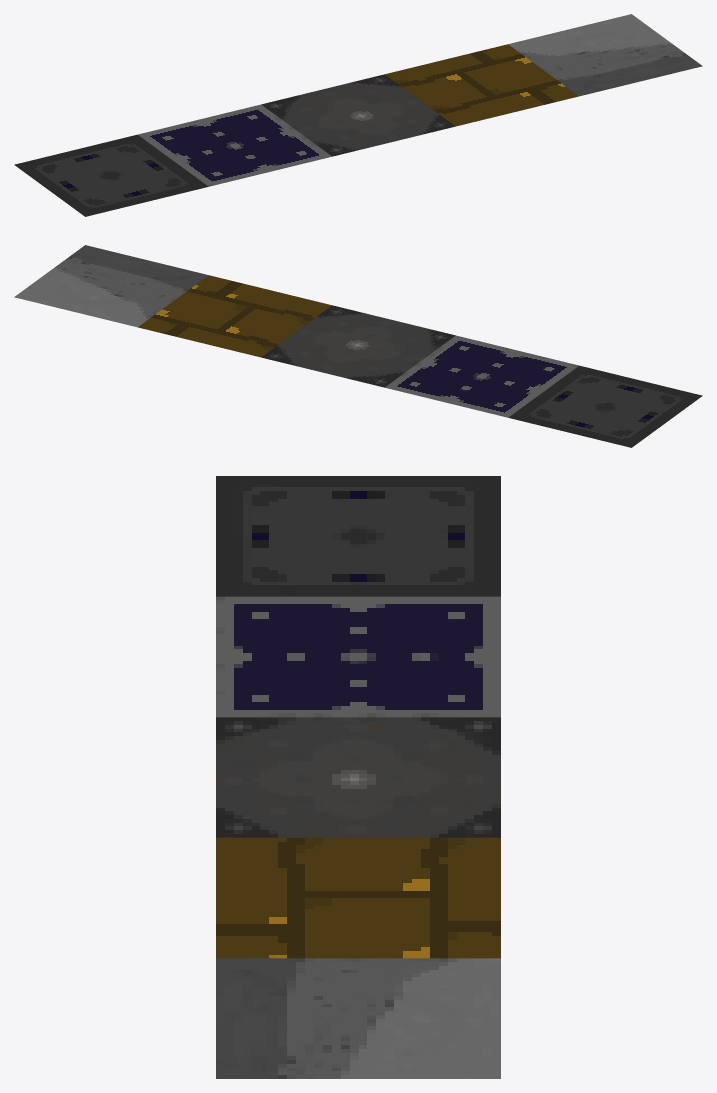
Rendered from better_gridmap_special_blocs.glb.
3 views of the same model, one above another, from view 1: azimuth 30°, elevation 25°; view 2: azimuth 150°, elevation 25°; view 3: azimuth 270°, elevation 25° (orthographic). The views are drawn at different scales.
Parts seen in each view (by area): view 1: Plane, Plane.001, Plane.003, Plane.004, Plane.002; view 2: Plane, Plane.001, Plane.003, Plane.004, Plane.002; view 3: Plane.001, Plane.003, Plane, Plane.002, Plane.004.
Part boxes in pixels (bbox=[...]): Plane: bbox=[14, 134, 208, 216]; Plane.001: bbox=[138, 104, 331, 186]; Plane.003: bbox=[385, 44, 578, 126]; Plane.004: bbox=[508, 14, 702, 96]; Plane.002: bbox=[261, 74, 455, 156]; Plane: bbox=[508, 365, 702, 447]; Plane.001: bbox=[385, 335, 578, 417]; Plane.003: bbox=[138, 275, 331, 357]; Plane.004: bbox=[14, 245, 208, 327]; Plane.002: bbox=[261, 305, 455, 387]; Plane.001: bbox=[216, 596, 500, 717]; Plane.003: bbox=[216, 837, 500, 958]; Plane: bbox=[216, 476, 500, 596]; Plane.002: bbox=[216, 717, 500, 837]; Plane.004: bbox=[216, 958, 500, 1078].
Bounding box in the file's own units: 10 × 0 × 2.
Materials: 1 (1 with a texture image).
